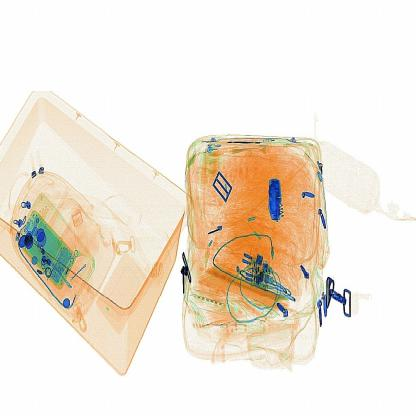scissors: (261, 163, 297, 235)
